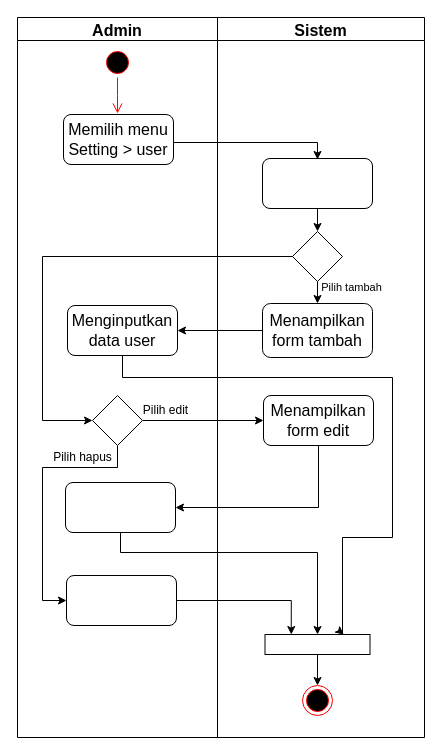
This 442x755 diagram has some shape labels left out. The shapes that lost their labels are listed below. From the top down, each one's centre as x and y in pixels, then its label:
At pixel 317 183: "Menampilkan data user".
At pixel 120 507: "Mengubah data".
At pixel 121 600: "Menghapus data".
